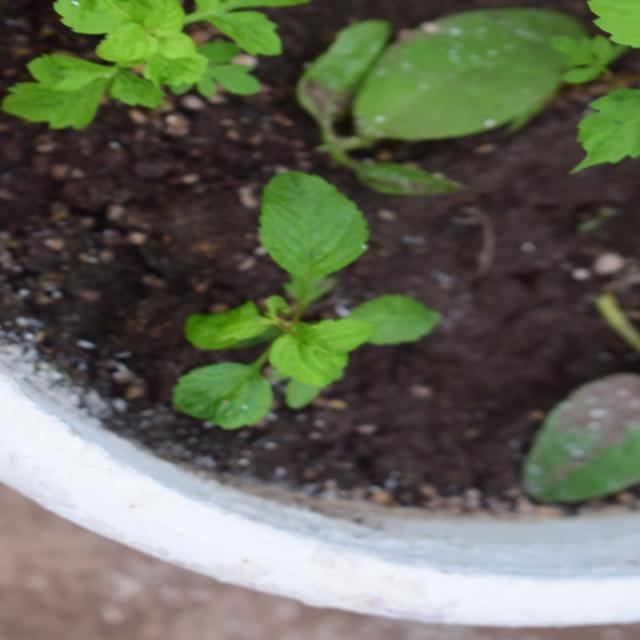Bidens pilosa: (165, 153, 426, 468)
